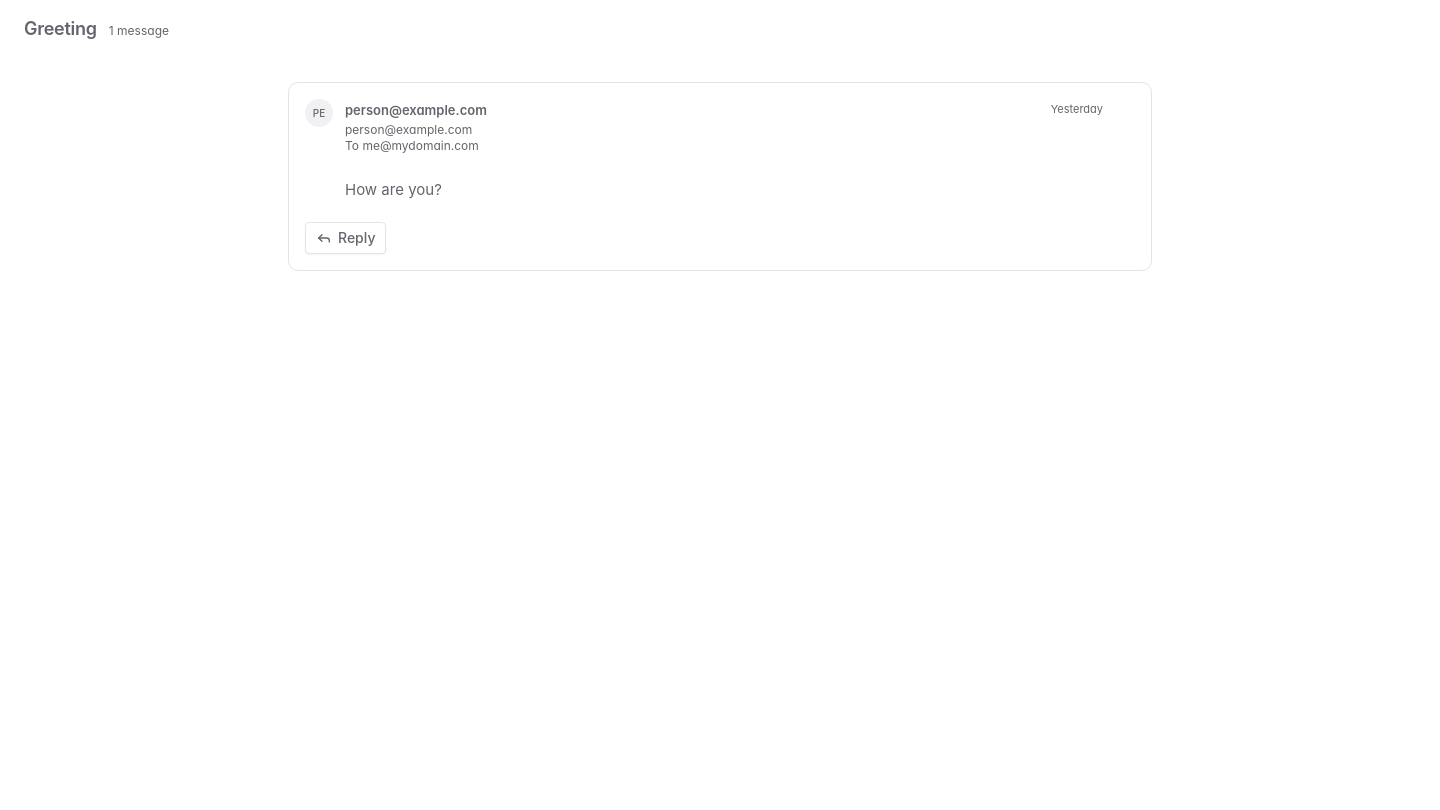
Test: conversation reading and replying › validates copied recipients and retains the reply text
Expected: the text "How are you?" is shown, [345, 180, 442, 199]
Click the button "Reply". click: click(346, 238)
box: [305, 222, 386, 254]
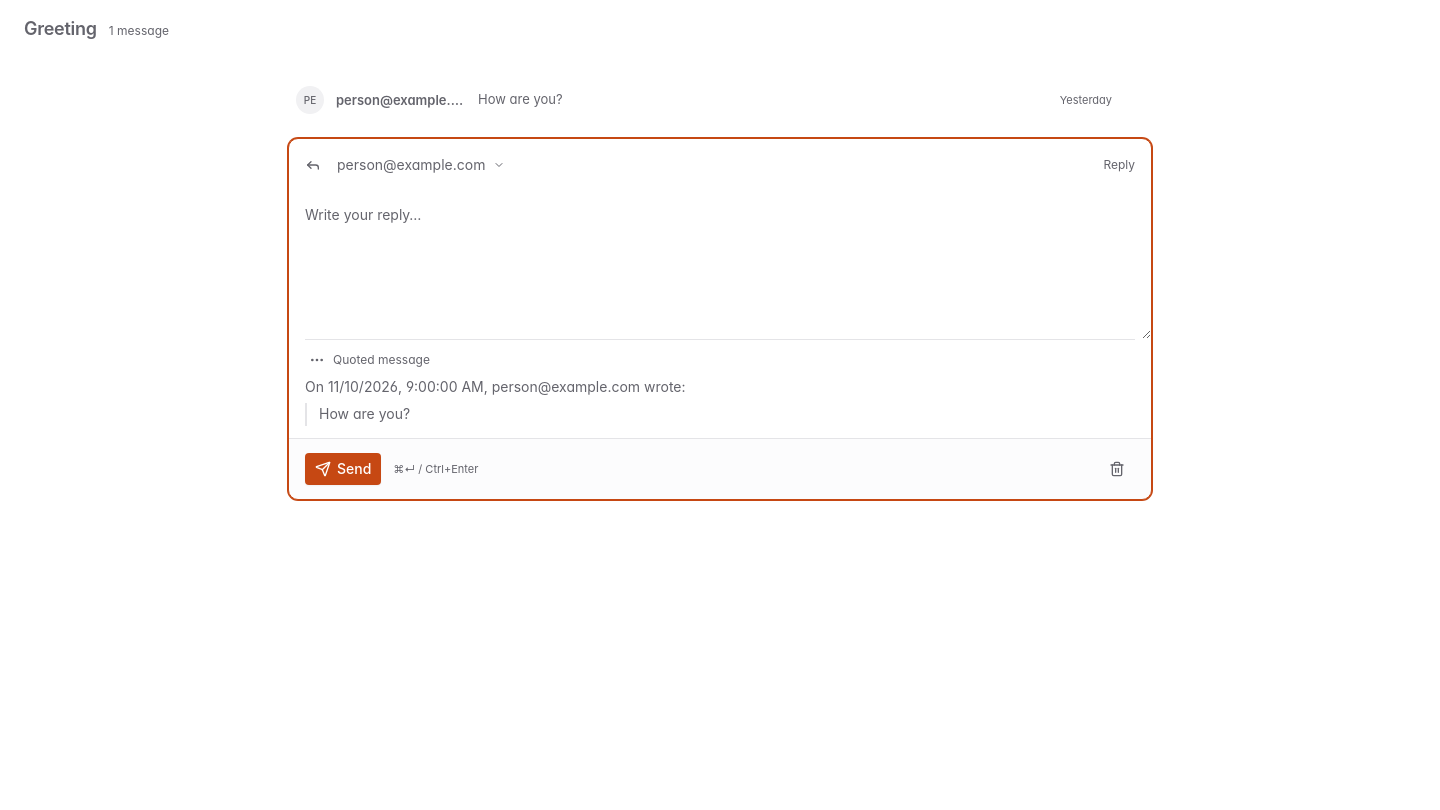
Type "Keep my text" into the text box named "Message". click: (720, 265)
box: [289, 191, 1151, 339]
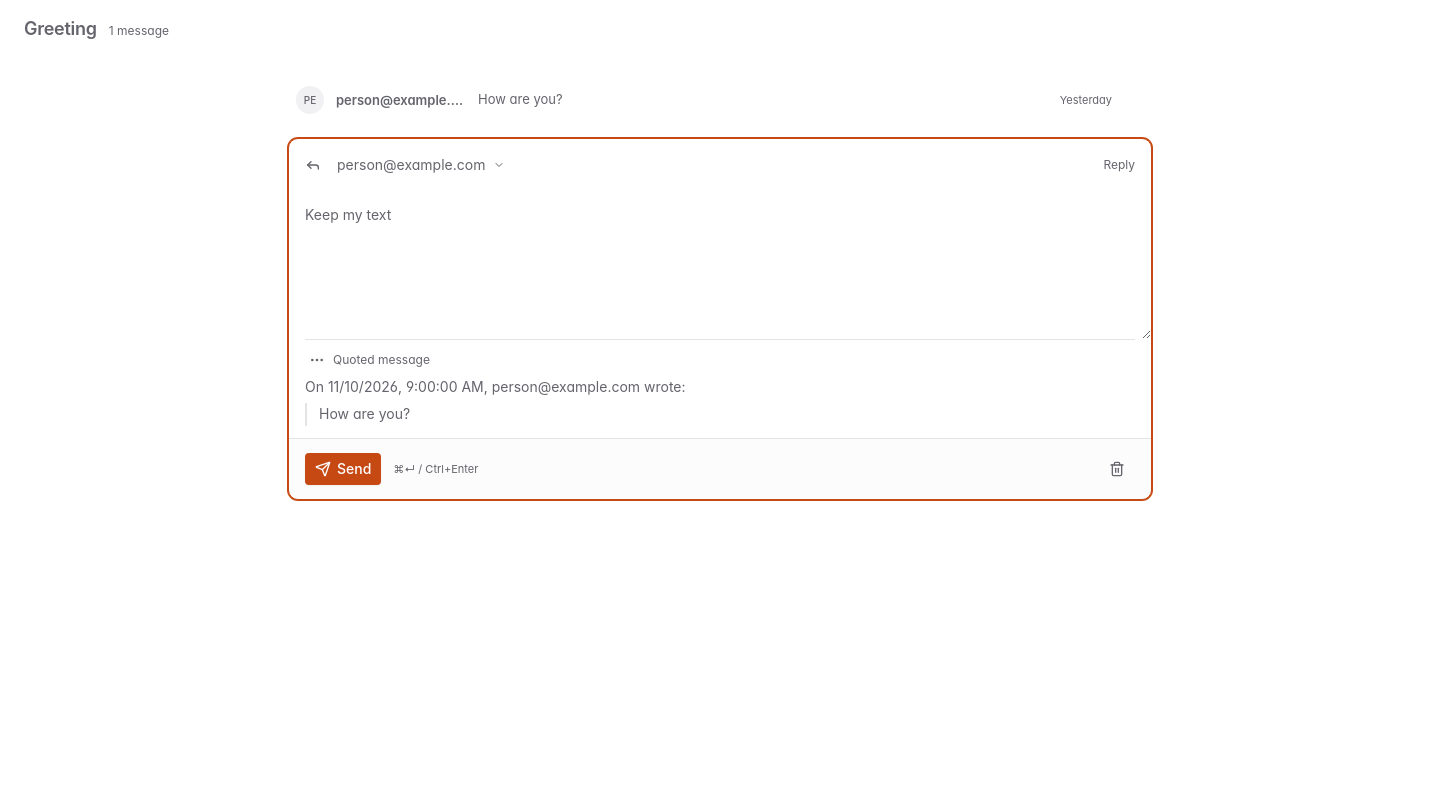
Click the button with aria-label "Edit reply details". click: click(421, 165)
box: [333, 151, 509, 179]
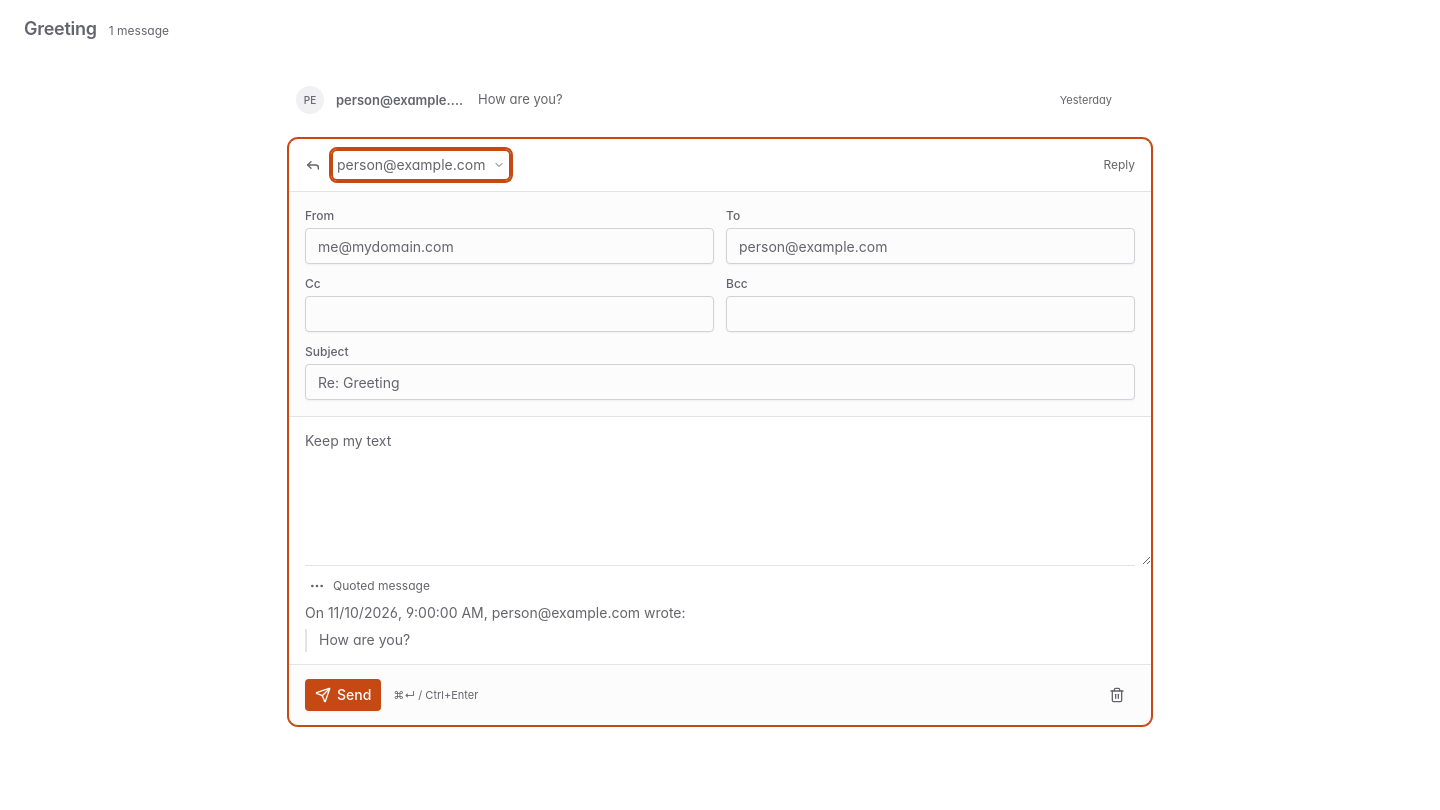
Type "invalid" into the field labelled "Cc". click: (510, 314)
box: [305, 296, 714, 332]
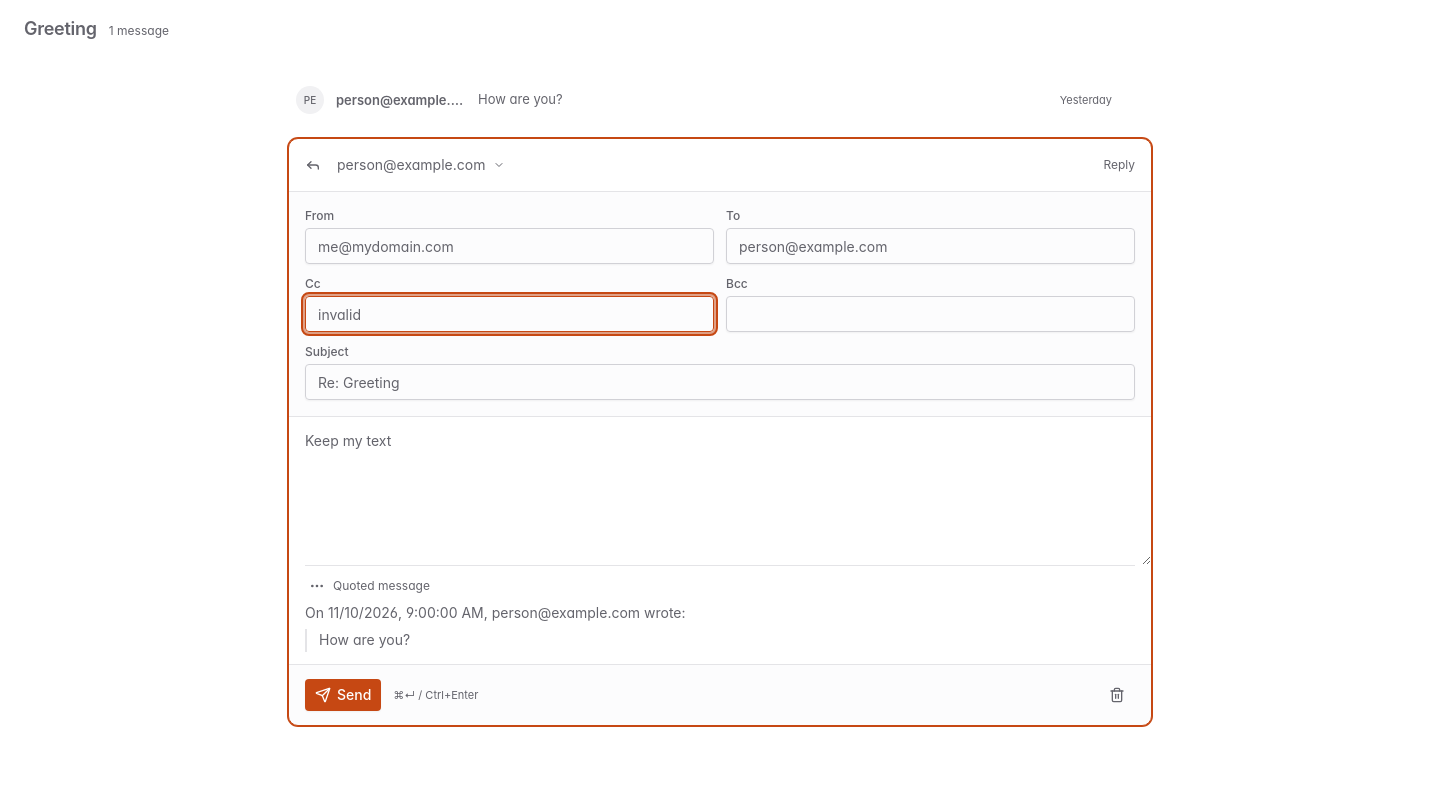
Click the button "Send". click: click(343, 694)
box: [305, 678, 381, 710]
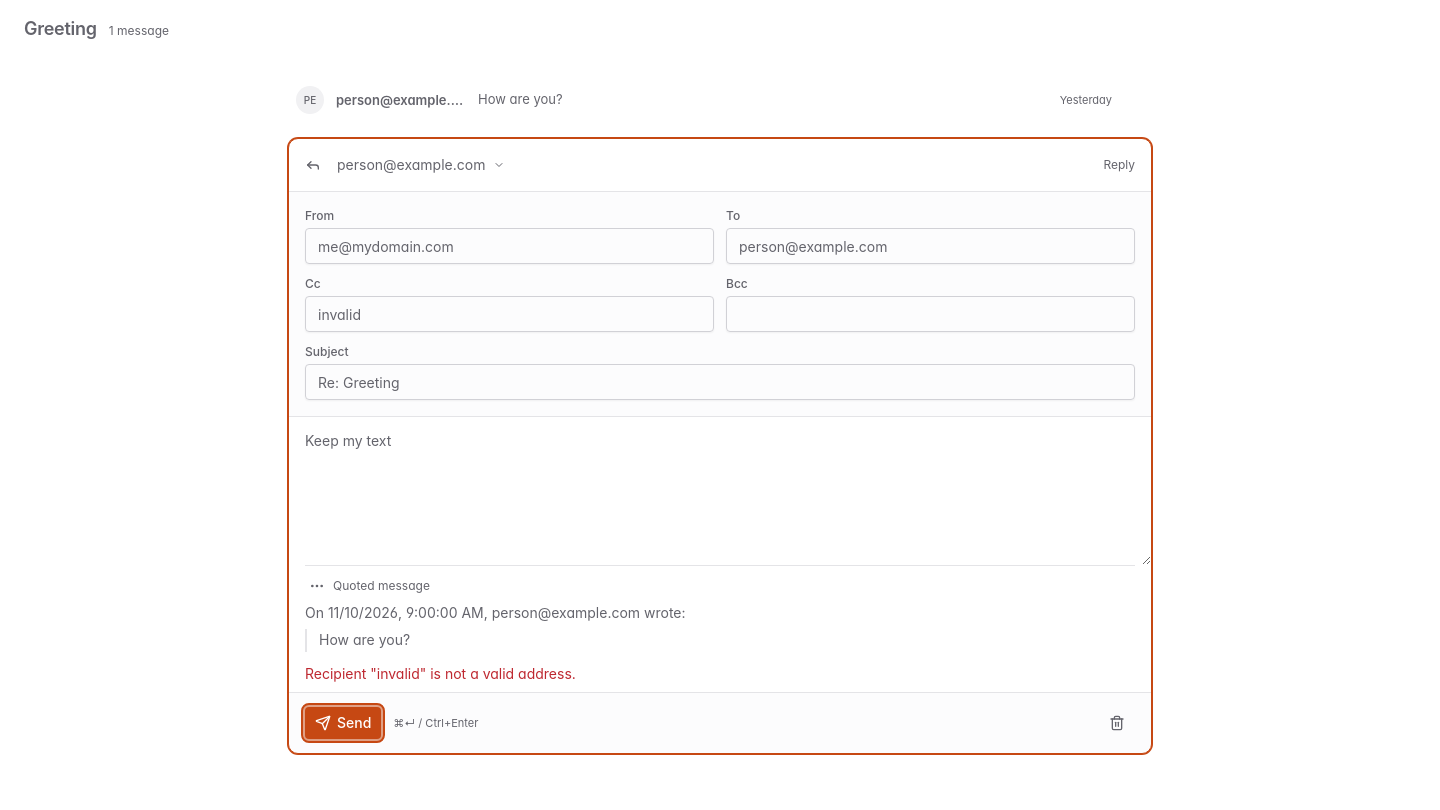
Expected: the message shows "not a valid address", [305, 664, 576, 682]
